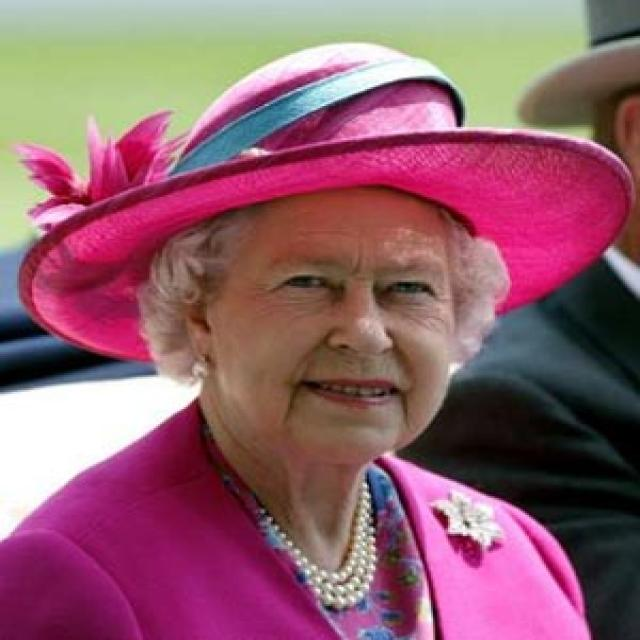hat: (24, 42, 632, 462)
